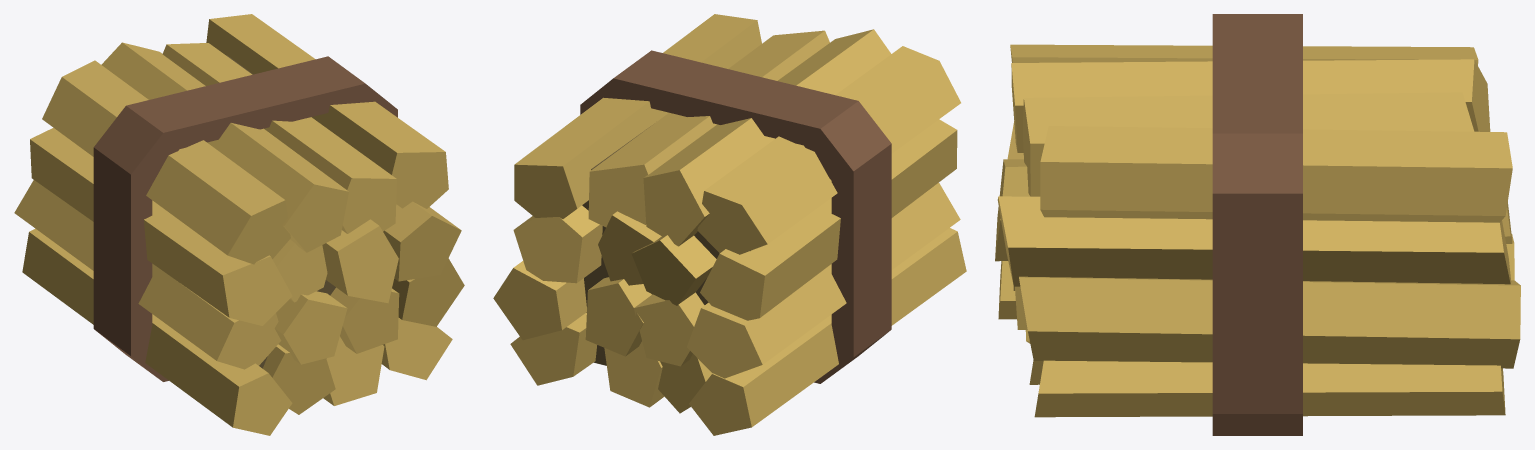
File: mdvl_farm_hay_bale_01.glb
3 views of the same model, side by side, from view 1: azimuth 30°, elevation 25°; view 2: azimuth 150°, elevation 25°; view 3: azimuth 270°, elevation 25° (orthographic). The views are drawn at different scales.
Visible parts, largest first — view 1: mdvl_farm_hay_bale_01; view 2: mdvl_farm_hay_bale_01; view 3: mdvl_farm_hay_bale_01.
Boxes of the visible parts, box(x1,y1,x2,y2) form: mdvl_farm_hay_bale_01: box(14, 14, 464, 435); mdvl_farm_hay_bale_01: box(493, 14, 966, 435); mdvl_farm_hay_bale_01: box(995, 14, 1520, 435).
Bounding box in the file's own units: 0.5784 × 0.5163 × 0.8141.
1 material, 1 textured.
